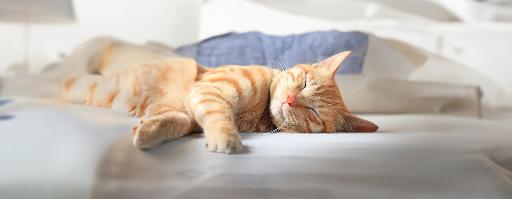cat_sleeping: (64, 51, 378, 153)
